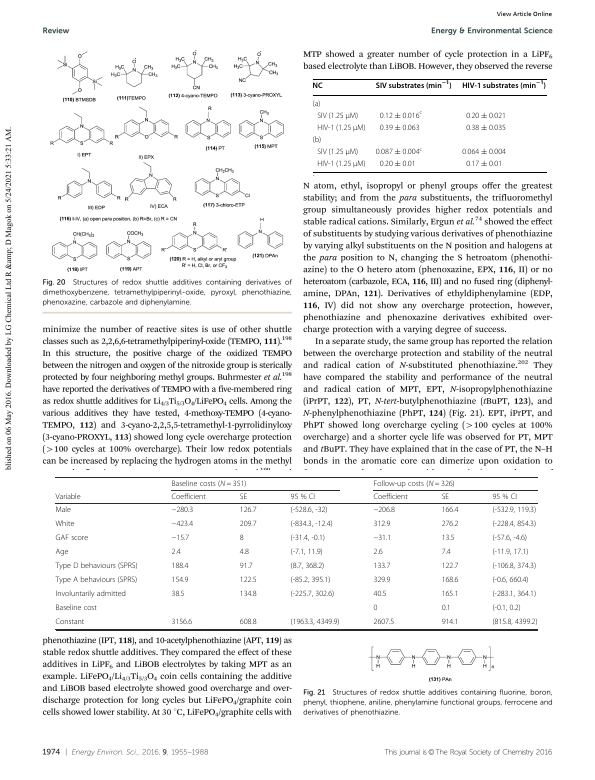borderless: (54, 475, 537, 629), (311, 77, 547, 172)
cell: (461, 80, 547, 90), (54, 561, 138, 571), (54, 575, 138, 585), (375, 80, 453, 90), (372, 479, 456, 488), (54, 589, 127, 599), (171, 479, 247, 488), (375, 146, 423, 157), (316, 123, 367, 133), (290, 617, 340, 627), (379, 110, 423, 121), (491, 617, 538, 627), (491, 505, 537, 515), (491, 519, 537, 529), (491, 561, 537, 571), (491, 589, 537, 599), (316, 160, 367, 169), (290, 589, 335, 599), (54, 603, 98, 613), (316, 111, 359, 121), (290, 519, 333, 529), (465, 111, 507, 121), (379, 123, 421, 133), (465, 123, 507, 133), (461, 148, 507, 157), (290, 575, 331, 585), (316, 148, 359, 157), (290, 505, 328, 515), (491, 547, 529, 557), (491, 575, 529, 585), (372, 492, 409, 502), (491, 533, 528, 543), (171, 492, 207, 502), (290, 533, 326, 543), (54, 533, 89, 543), (290, 561, 325, 571), (379, 160, 417, 169), (465, 160, 503, 169), (290, 547, 324, 557), (491, 603, 522, 613), (54, 617, 85, 627), (54, 492, 81, 502), (491, 492, 518, 502), (290, 492, 316, 502), (372, 505, 396, 515), (171, 505, 194, 515), (171, 519, 194, 529), (372, 617, 395, 627), (171, 617, 193, 627), (54, 519, 75, 529), (372, 533, 392, 543), (372, 519, 391, 529), (171, 533, 190, 543), (372, 561, 391, 571), (372, 575, 391, 585), (54, 505, 72, 515), (239, 505, 257, 515), (441, 505, 459, 515), (239, 519, 257, 529), (441, 519, 459, 529), (171, 561, 189, 571), (441, 561, 459, 571), (171, 575, 189, 585), (239, 575, 257, 585), (441, 575, 459, 585), (239, 589, 257, 599), (441, 589, 459, 599), (239, 617, 257, 627), (441, 617, 459, 627), (54, 547, 69, 557), (239, 561, 254, 571), (372, 589, 387, 599), (441, 533, 455, 543), (171, 589, 185, 599), (171, 547, 182, 557), (239, 547, 250, 557), (372, 547, 383, 557), (441, 547, 452, 557), (441, 603, 452, 613), (312, 81, 324, 90), (312, 99, 321, 109), (312, 136, 322, 145), (239, 492, 248, 502), (441, 492, 450, 502), (239, 533, 245, 543), (372, 603, 378, 613)
